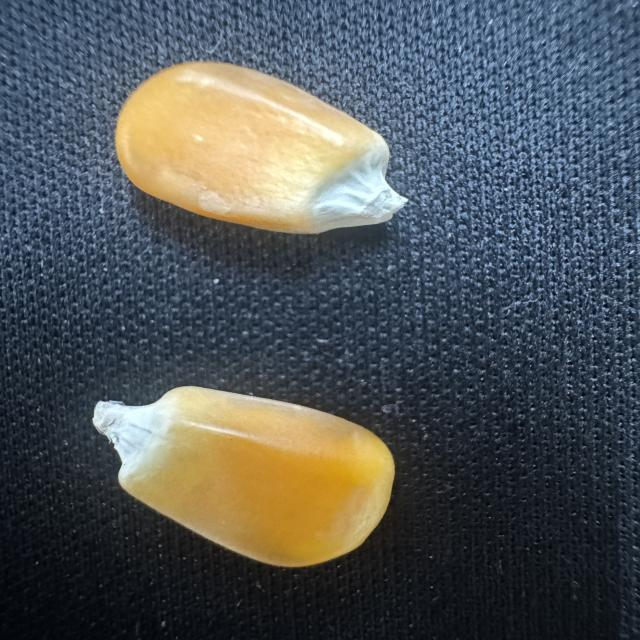Good-Seed: (81, 378, 406, 574), (106, 56, 414, 240)
